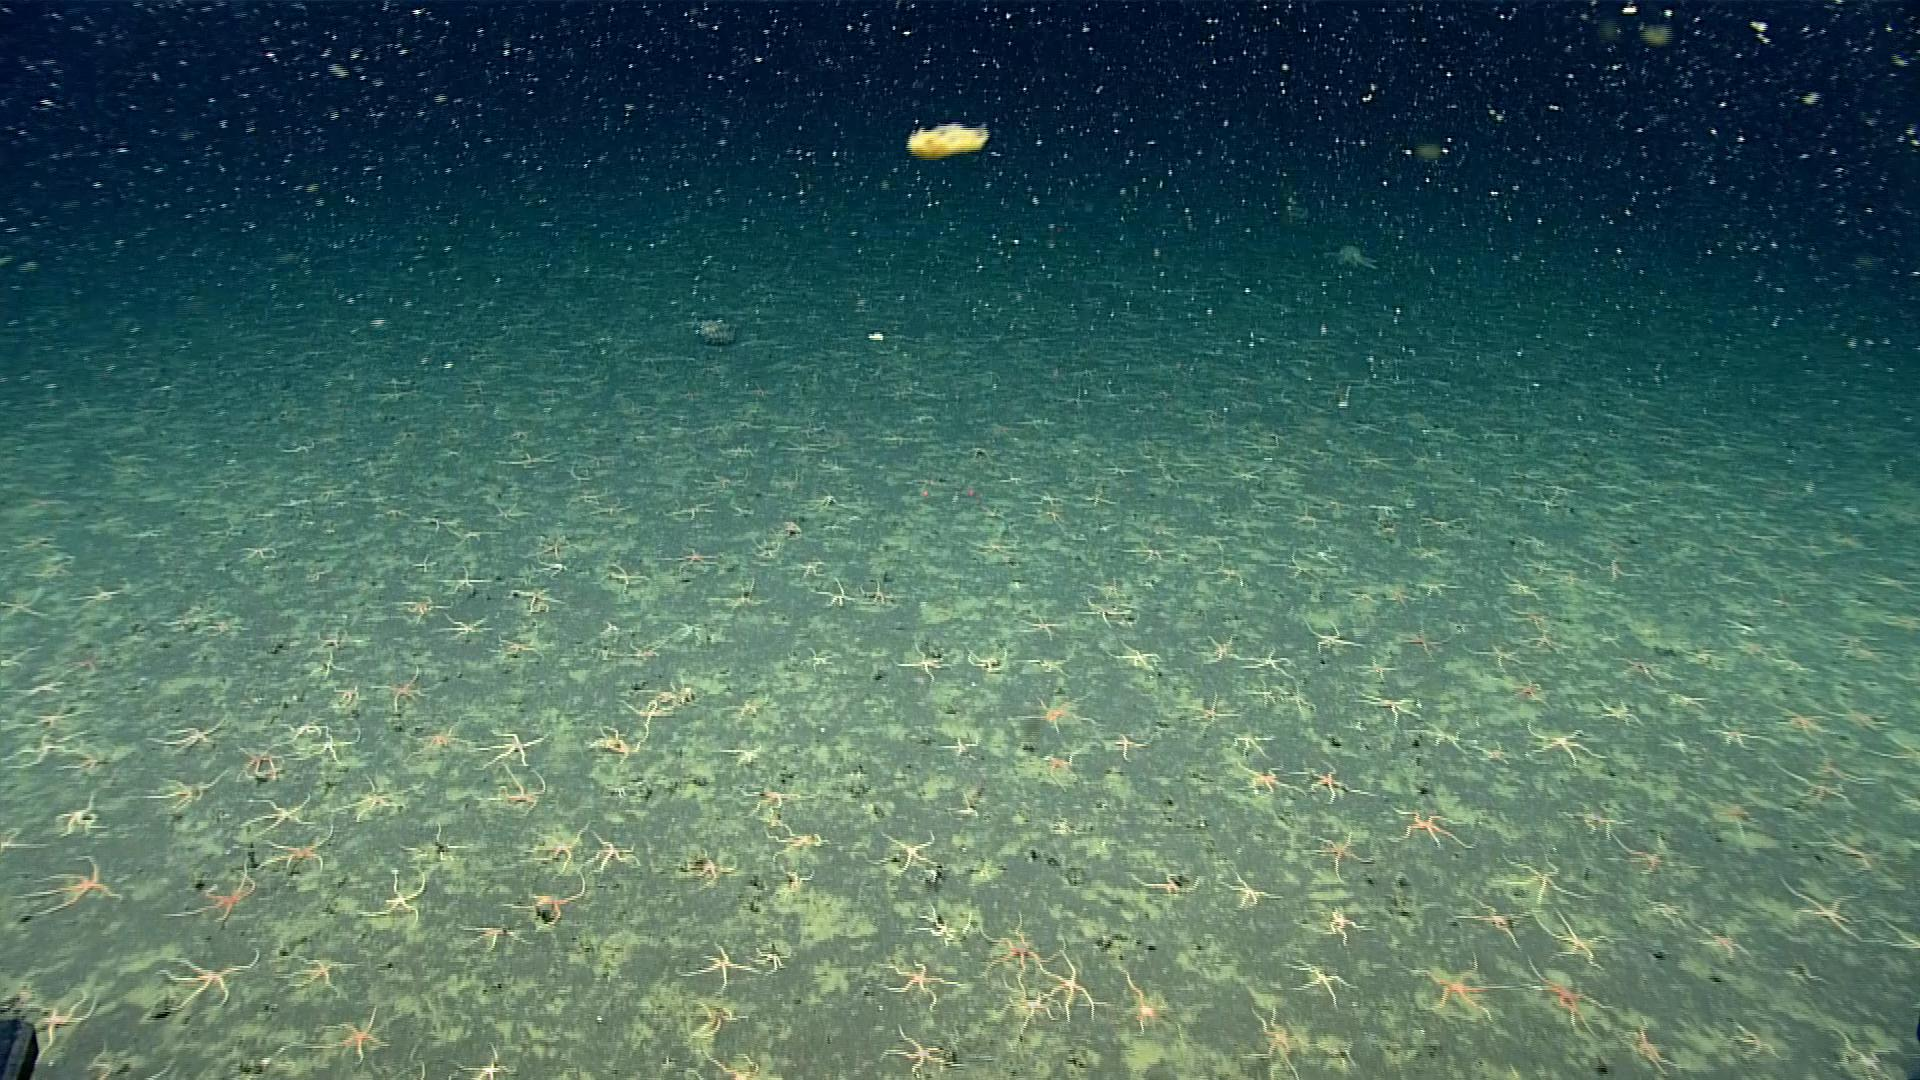brittle_sea_star: (1398, 948, 1519, 1026), (1523, 953, 1610, 1040), (160, 945, 264, 1011), (16, 855, 128, 914), (165, 857, 258, 926), (21, 988, 105, 1060), (977, 911, 1058, 986), (1497, 851, 1600, 907), (1539, 907, 1621, 973), (1780, 874, 1861, 938), (876, 961, 967, 1013), (1451, 894, 1535, 948), (307, 1005, 388, 1062), (674, 943, 761, 994), (1391, 802, 1480, 852), (328, 773, 419, 820), (1828, 1025, 1908, 1076), (1247, 1004, 1305, 1075), (1035, 949, 1092, 1022), (1601, 832, 1691, 877), (504, 880, 585, 928), (992, 978, 1056, 1039), (874, 1025, 961, 1069), (1117, 968, 1175, 1035), (256, 827, 335, 874), (357, 872, 426, 926), (1283, 956, 1357, 1006), (483, 765, 553, 816), (874, 829, 942, 882), (1524, 723, 1605, 766), (1775, 765, 1850, 811), (277, 953, 356, 997), (148, 767, 228, 810), (1303, 831, 1371, 880), (1015, 694, 1096, 735), (144, 716, 229, 754), (527, 824, 589, 877), (1808, 827, 1884, 869), (1, 732, 79, 773), (733, 782, 816, 820), (401, 820, 473, 864), (1296, 762, 1370, 804), (1229, 758, 1300, 802), (398, 717, 473, 757), (476, 728, 549, 769), (247, 793, 315, 835), (371, 665, 431, 712), (911, 902, 972, 948), (1348, 686, 1418, 725), (761, 825, 831, 864), (1175, 690, 1240, 731), (55, 789, 111, 836), (459, 918, 533, 953), (895, 641, 952, 686), (1625, 1026, 1681, 1071), (585, 723, 649, 761), (687, 1000, 744, 1042), (451, 1042, 516, 1079), (1222, 872, 1284, 910), (438, 560, 504, 596), (657, 543, 720, 579), (1303, 617, 1364, 654), (589, 831, 641, 873), (700, 1047, 767, 1079), (301, 729, 363, 764), (1871, 733, 1919, 777), (622, 696, 678, 733), (393, 592, 456, 624), (1319, 907, 1373, 944), (1458, 642, 1527, 671), (1712, 795, 1762, 835), (1706, 720, 1768, 752), (1197, 634, 1265, 663), (1873, 920, 1919, 963), (1394, 621, 1451, 655), (1696, 924, 1750, 960), (1607, 654, 1668, 686), (1734, 1023, 1784, 1062), (1818, 753, 1871, 789), (1571, 804, 1625, 839), (593, 562, 649, 595), (1108, 637, 1163, 670), (495, 630, 546, 665), (442, 611, 496, 642), (0, 585, 51, 618), (67, 1051, 128, 1079), (1776, 704, 1825, 738), (506, 587, 563, 616), (239, 744, 285, 779), (1142, 869, 1201, 897), (1412, 723, 1466, 753), (0, 824, 53, 855), (642, 680, 703, 707), (1734, 640, 1795, 666), (24, 705, 91, 729), (680, 856, 737, 884), (1241, 646, 1295, 675), (1646, 897, 1693, 930), (967, 534, 1026, 560), (1840, 702, 1891, 732), (1307, 1036, 1358, 1067), (1080, 596, 1129, 628), (1118, 541, 1179, 566), (1279, 500, 1331, 529), (74, 583, 127, 611), (533, 551, 583, 580), (1205, 551, 1247, 585), (306, 654, 353, 684), (1593, 699, 1640, 729), (1019, 502, 1071, 530), (1511, 600, 1555, 632), (1833, 632, 1880, 661), (1039, 752, 1079, 786), (861, 576, 907, 605), (1275, 551, 1319, 582), (964, 642, 1007, 671), (8, 676, 71, 696), (491, 448, 558, 467), (815, 578, 857, 607), (723, 579, 758, 613), (1280, 686, 1319, 717), (1593, 556, 1640, 582), (1113, 732, 1154, 761), (1021, 613, 1065, 640), (1346, 657, 1399, 679), (1021, 655, 1076, 676), (752, 945, 790, 976), (59, 749, 111, 771), (716, 742, 762, 766), (1511, 674, 1548, 703), (161, 612, 206, 636), (307, 629, 357, 650), (1473, 738, 1513, 765), (1400, 538, 1447, 560), (802, 645, 840, 671), (621, 640, 666, 662), (1664, 690, 1714, 709), (1305, 541, 1341, 568), (935, 735, 981, 756), (447, 526, 500, 545), (1677, 642, 1718, 666), (692, 472, 748, 489), (789, 556, 831, 579), (1659, 733, 1701, 756), (1527, 630, 1567, 654), (778, 866, 812, 893), (1077, 488, 1117, 510), (280, 720, 327, 738), (1233, 733, 1274, 754), (1098, 576, 1133, 601), (200, 613, 239, 636), (1383, 585, 1419, 609), (1245, 679, 1276, 705), (1713, 568, 1753, 589), (328, 682, 361, 707), (1416, 579, 1464, 596), (775, 513, 810, 537), (73, 650, 111, 671), (1423, 513, 1466, 531), (754, 534, 785, 560), (123, 525, 170, 541), (727, 698, 761, 719), (1232, 1067, 1291, 1079), (819, 459, 860, 476), (953, 794, 980, 820), (670, 502, 713, 518), (1592, 626, 1622, 649), (411, 514, 458, 529), (1225, 467, 1267, 483), (808, 492, 847, 509), (1528, 495, 1567, 512), (240, 545, 277, 562), (537, 535, 570, 554), (595, 620, 622, 641), (1902, 984, 1919, 1013), (410, 554, 438, 571), (585, 645, 611, 663), (574, 492, 607, 505), (1001, 471, 1022, 485)
